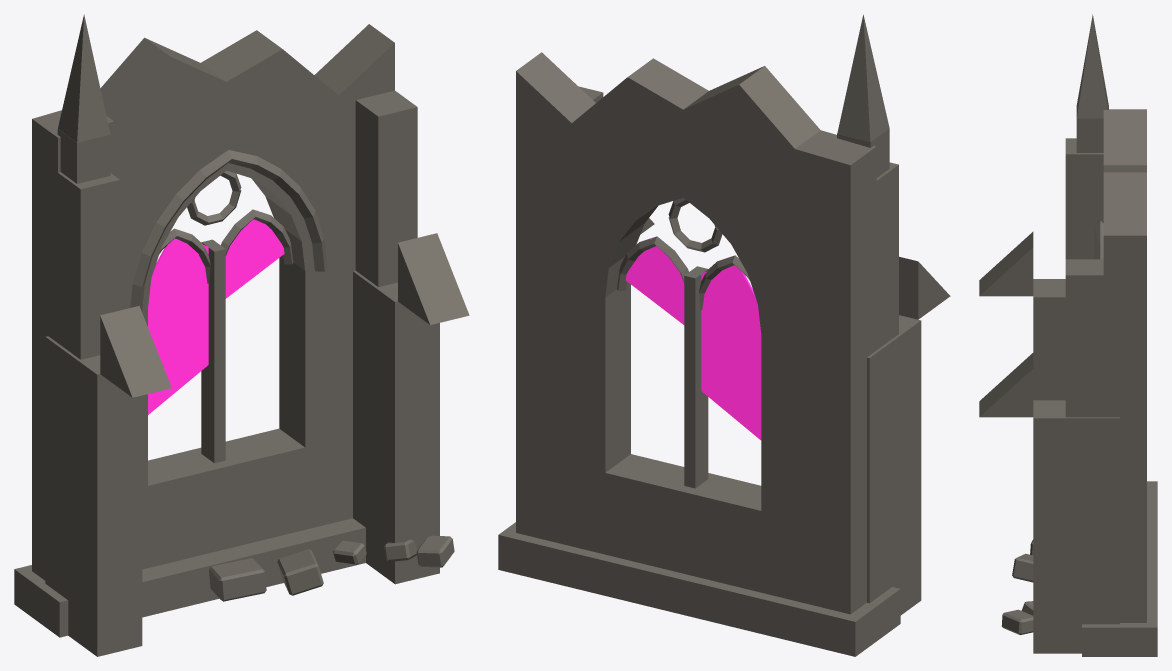
The model's file is muro_gotico.fbx.
3 renders of one model, left to right at view 1: azimuth 30°, elevation 25°; view 2: azimuth 150°, elevation 25°; view 3: azimuth 270°, elevation 25°, orthographic. The views are drawn at different scales.
Visible parts, largest first — view 1: muro_gotico; view 2: muro_gotico; view 3: muro_gotico.
Part boxes in pixels (x1=…): muro_gotico: x1=14, y1=14, x2=469, y2=656; muro_gotico: x1=498, y1=14, x2=950, y2=656; muro_gotico: x1=979, y1=14, x2=1157, y2=656.
Size of the model in its own units: 6.4 by 10.4 by 3.3.
